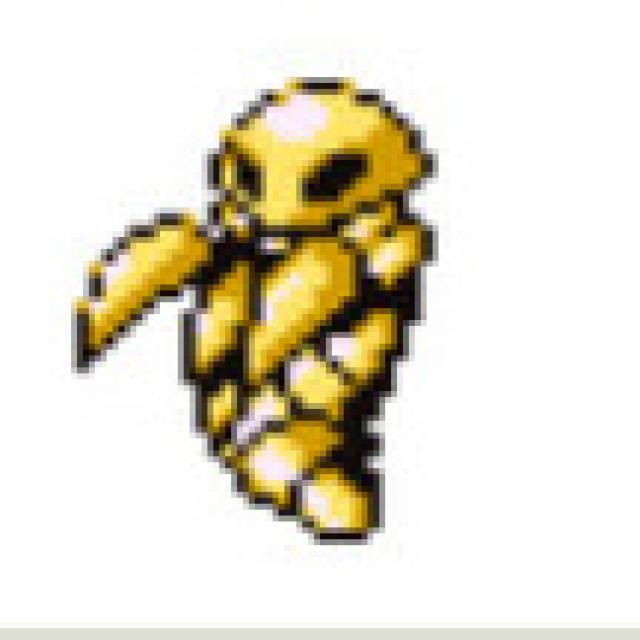Kakuna: (179, 69, 441, 561)
